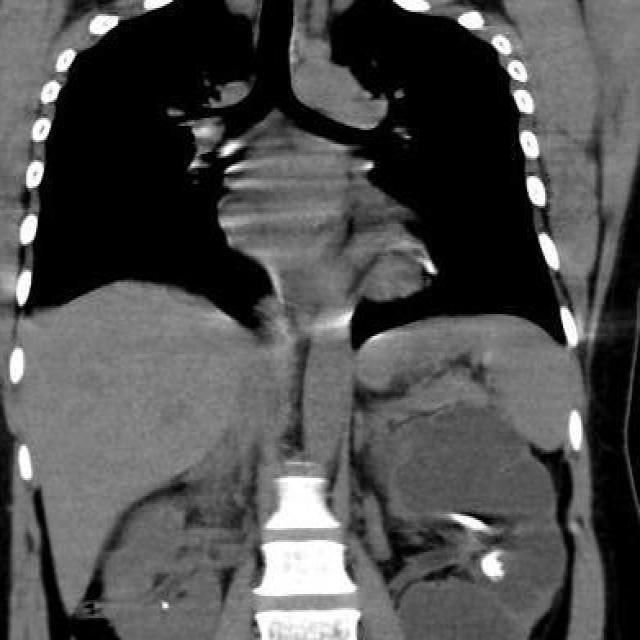Tas_Var: (446, 506, 498, 538), (479, 550, 508, 582), (160, 596, 172, 612)
